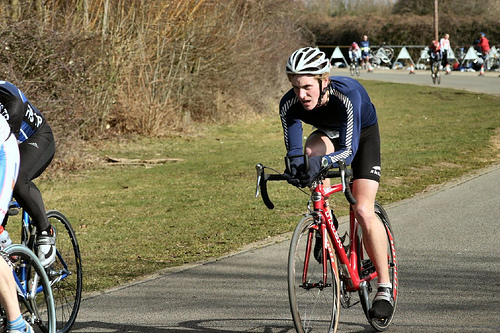without_mask: (289, 69, 332, 109)
